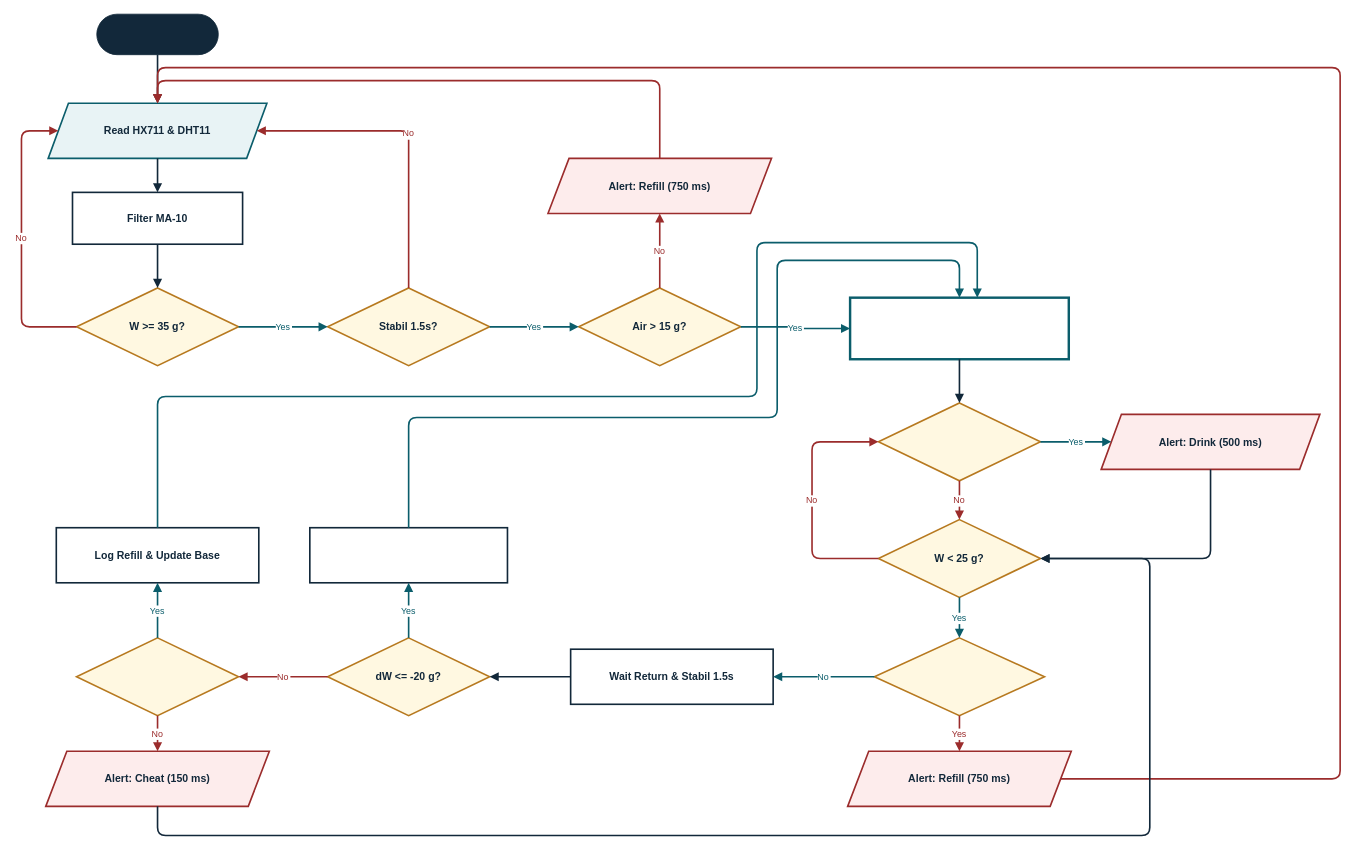
The diagram is 1361 pixels wide and 857 high, and some of its shapes have lost their labels. Here are the shapes that lost their labels. From the top down, the centre of each, then its label:
(157,34): Start
(959,328): Lock Baseline & T_target STATE_TIMING
(959,441): Timer == 0?
(408,554): Log Drink & Reset Timer
(157,676): dW >= +30 g?
(959,676): Lifted >= Limit?
